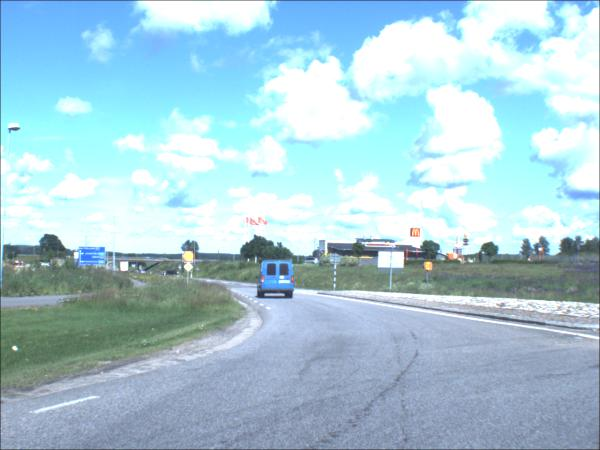80_SIGN: (182, 252, 194, 264), (424, 263, 433, 272)
PRIORITY_ROAD: (184, 263, 194, 274)
